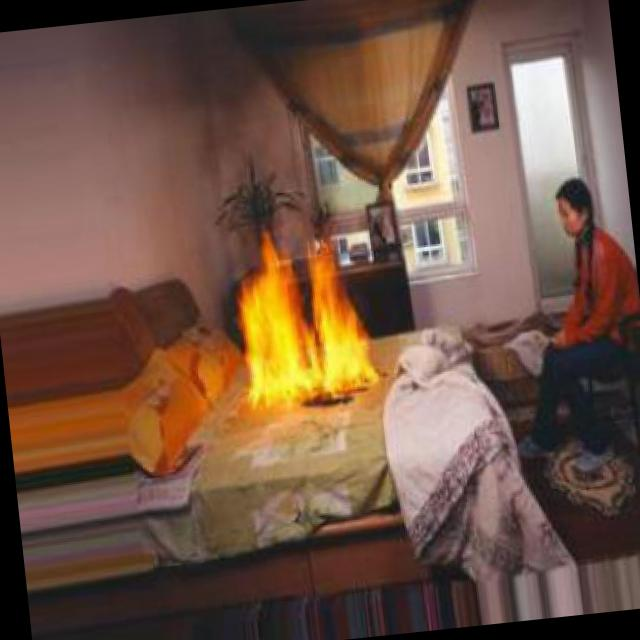fire: (224, 217, 376, 419)
